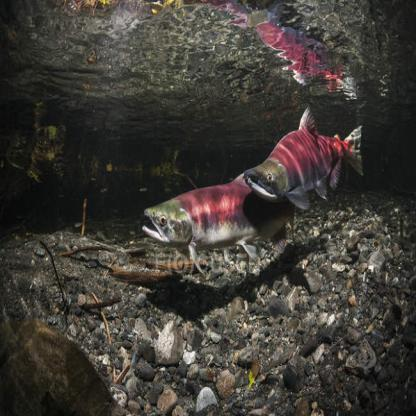fish: (140, 172, 300, 278), (240, 104, 364, 210)
